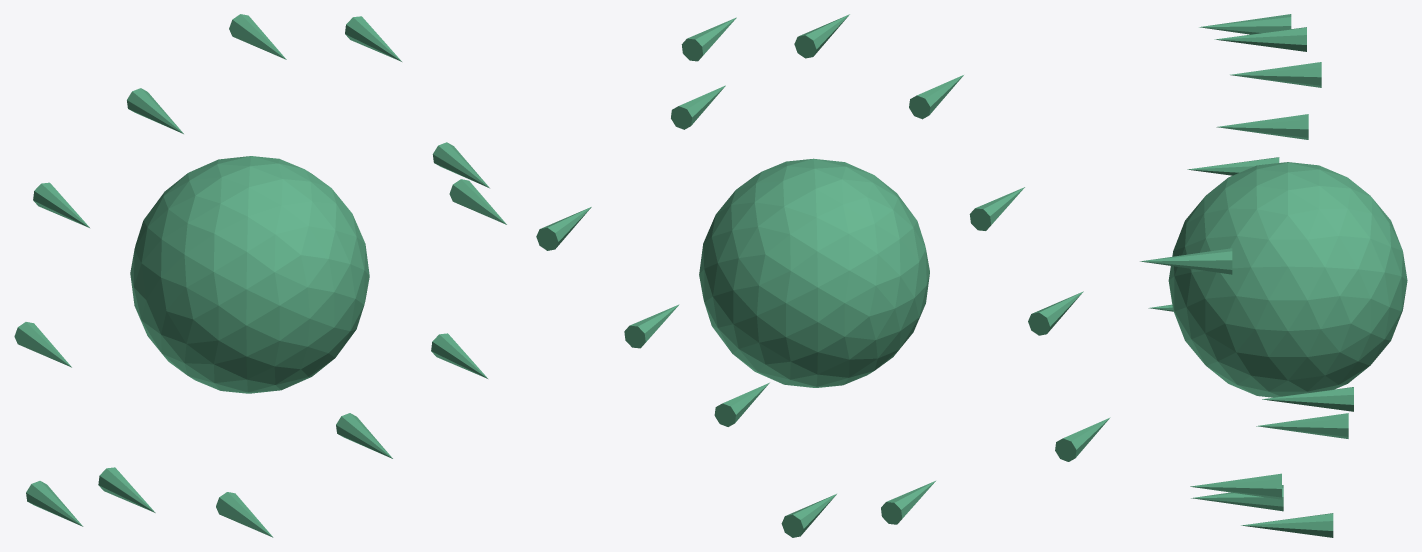
Rendered from nature_165.glb.
3 renders of one model, left to right at view 1: azimuth 30°, elevation 25°; view 2: azimuth 150°, elevation 25°; view 3: azimuth 270°, elevation 25°, orthographic. The views are drawn at different scales.
Visible parts, largest first — view 1: world; view 2: world; view 3: world.
Boxes of the visible parts, left/top/right/bottom form: world: left=14, top=14, right=506, bottom=537; world: left=536, top=14, right=1110, bottom=537; world: left=1140, top=14, right=1407, bottom=537.
Bounding box in the file's own units: 2.18 × 2.12 × 1.01.
